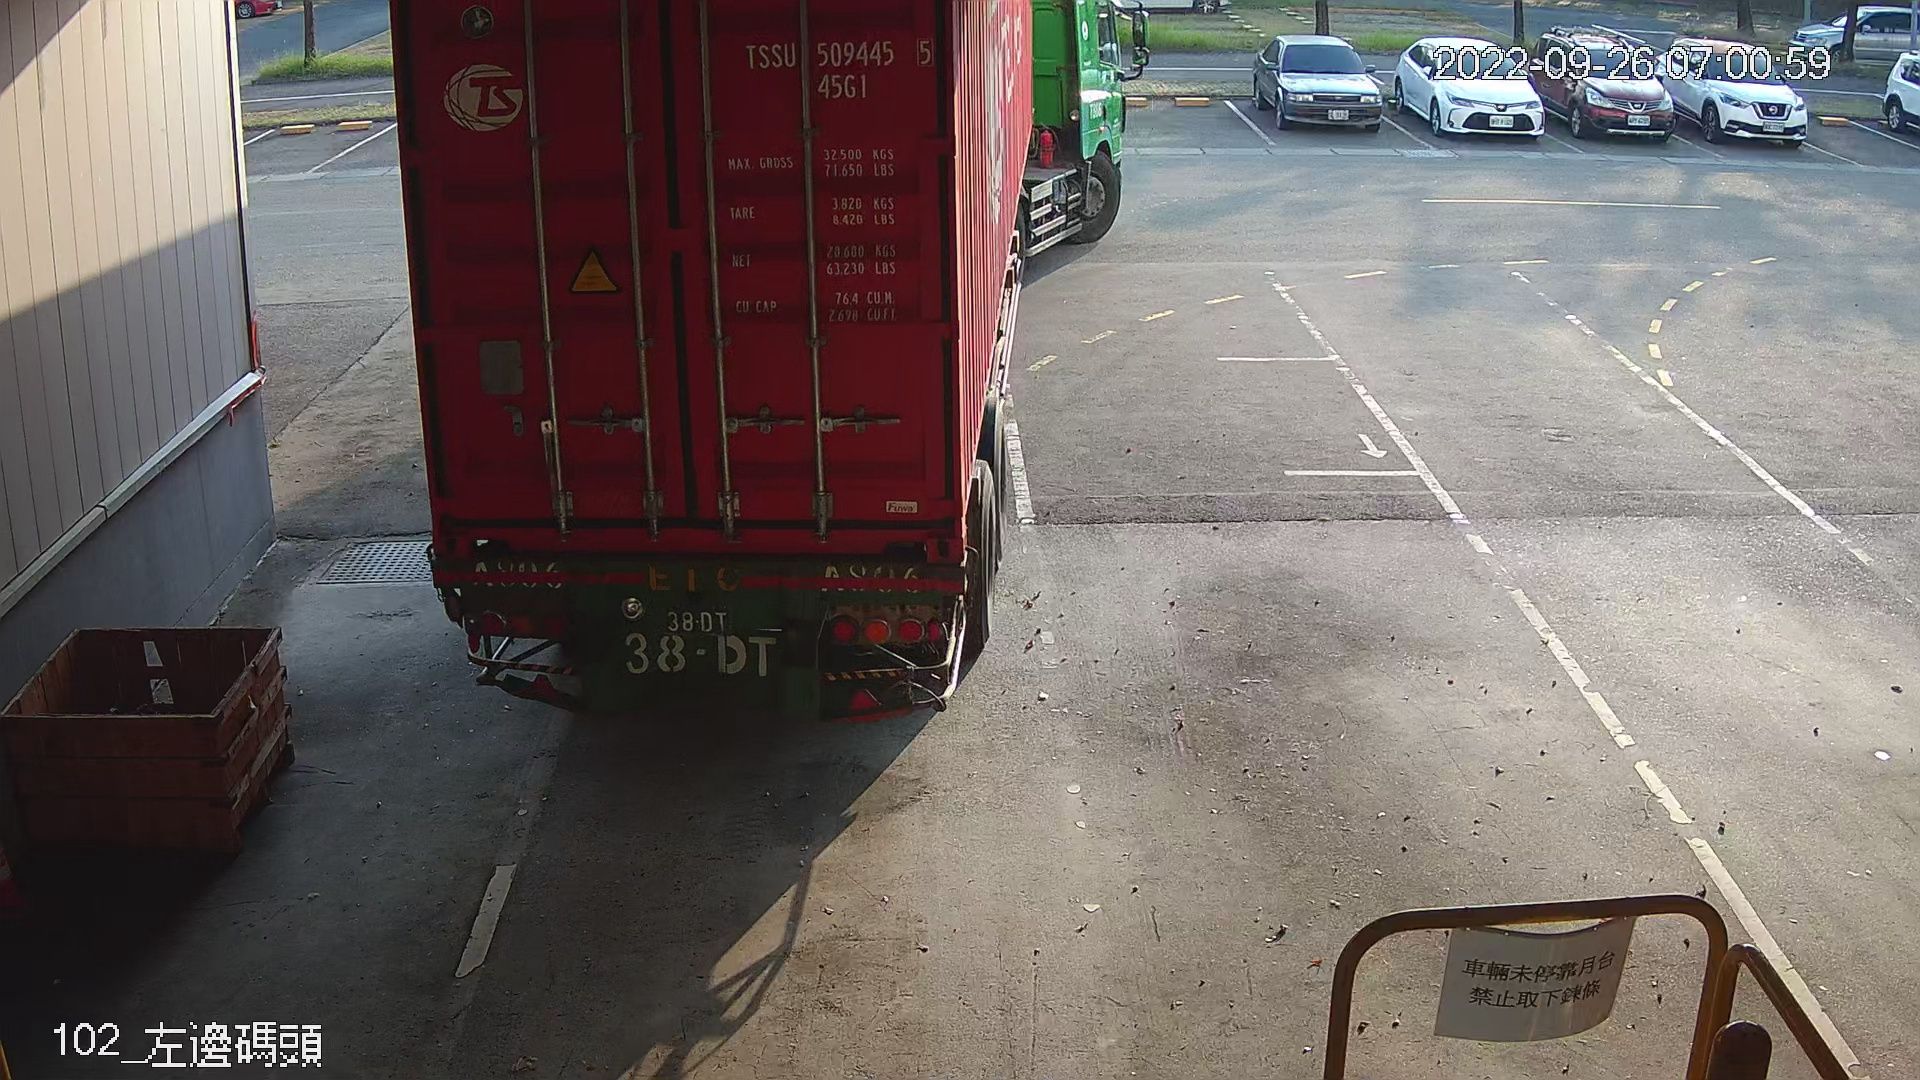container: (731, 30, 942, 108)
